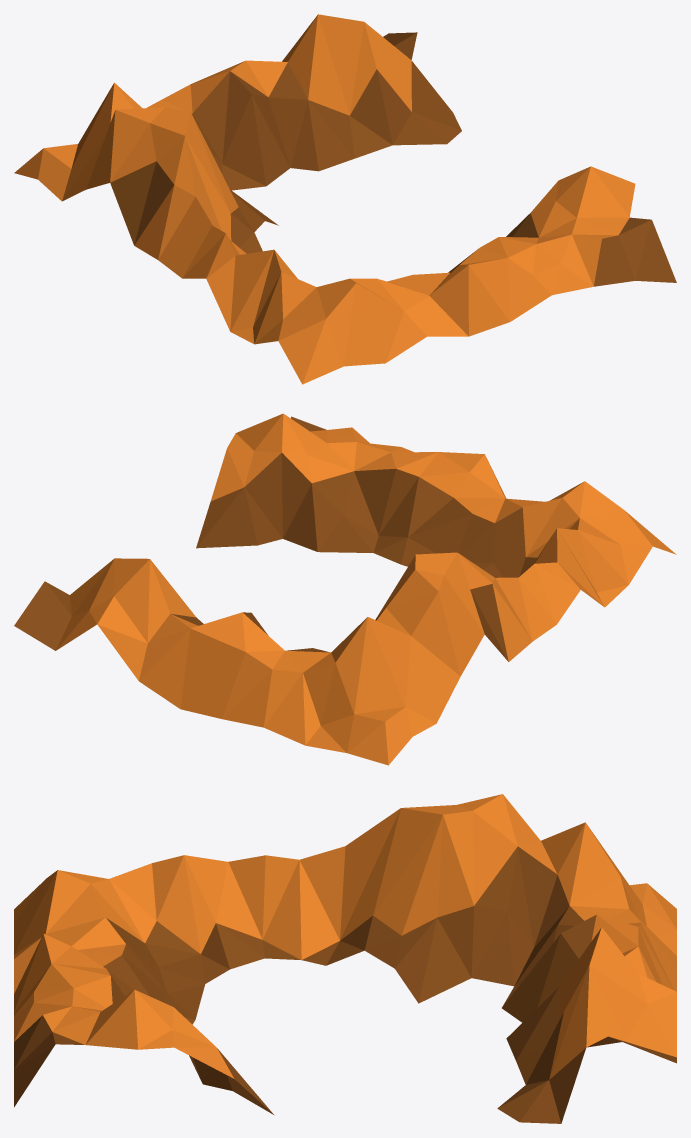
The model's file is MountainsPart01.FBX.
3 views of the same model, one above another, from view 1: azimuth 30°, elevation 25°; view 2: azimuth 150°, elevation 25°; view 3: azimuth 270°, elevation 25° (orthographic). The views are drawn at different scales.
Parts seen in each view (by area): view 1: MountainsPart01; view 2: MountainsPart01; view 3: MountainsPart01.
Boxes of the visible parts, x1,y1,x2,y2 form: MountainsPart01: (14, 14, 676, 384); MountainsPart01: (14, 413, 676, 765); MountainsPart01: (14, 794, 676, 1123).
Size of the model in its own units: 4670 by 1448 by 6000.
